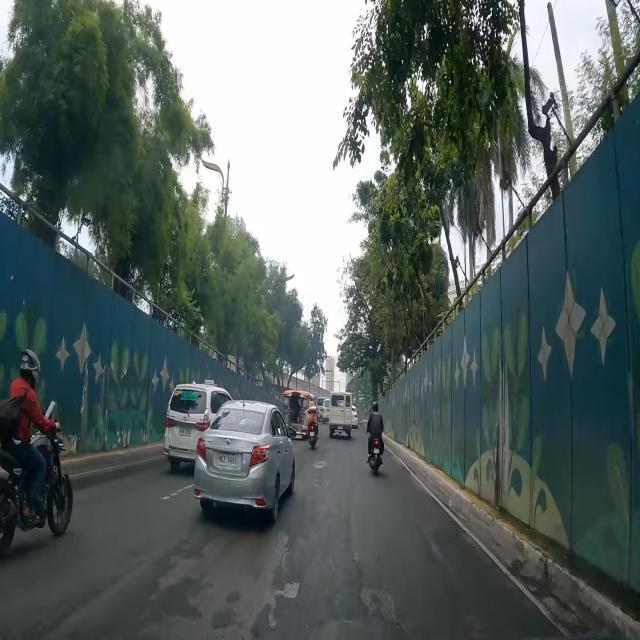car: (193, 398, 297, 521), (164, 380, 234, 470), (316, 396, 328, 419)
jeepney: (282, 390, 315, 440)
motorcycle: (0, 347, 74, 557), (366, 400, 384, 478), (305, 398, 319, 449)
truck: (329, 390, 352, 440)
